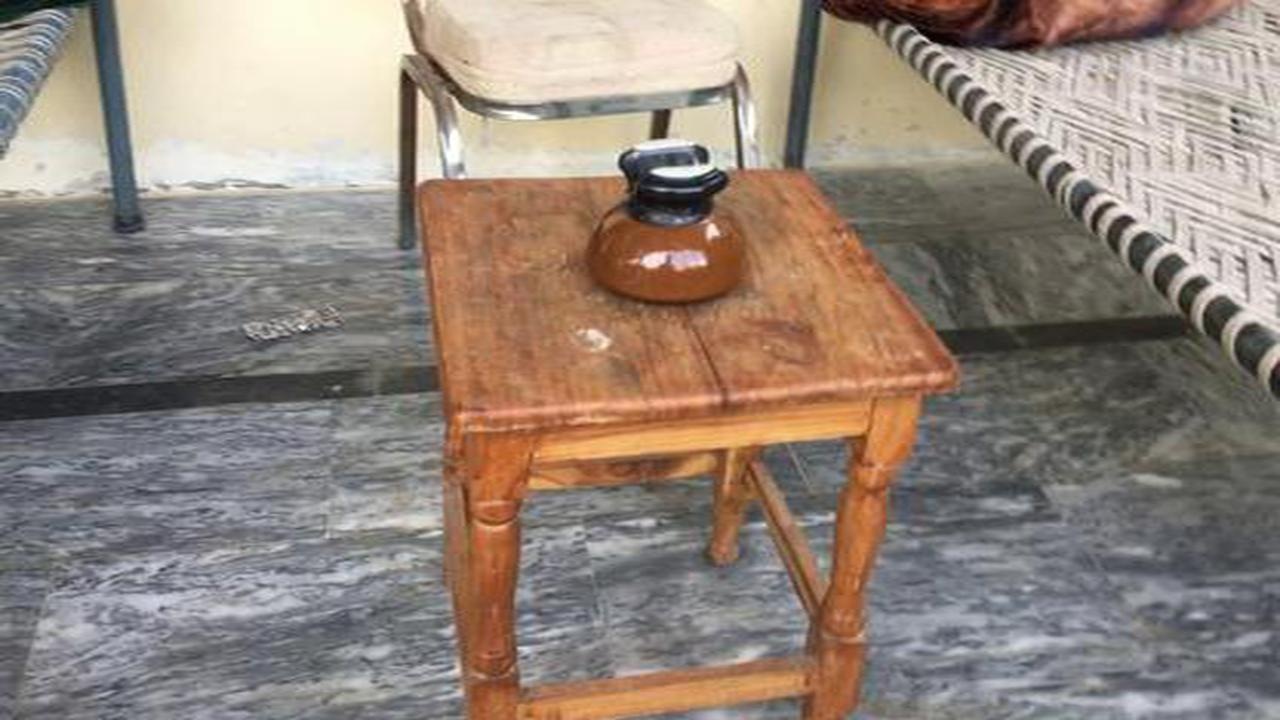insulator_pin: (561, 134, 785, 326)
